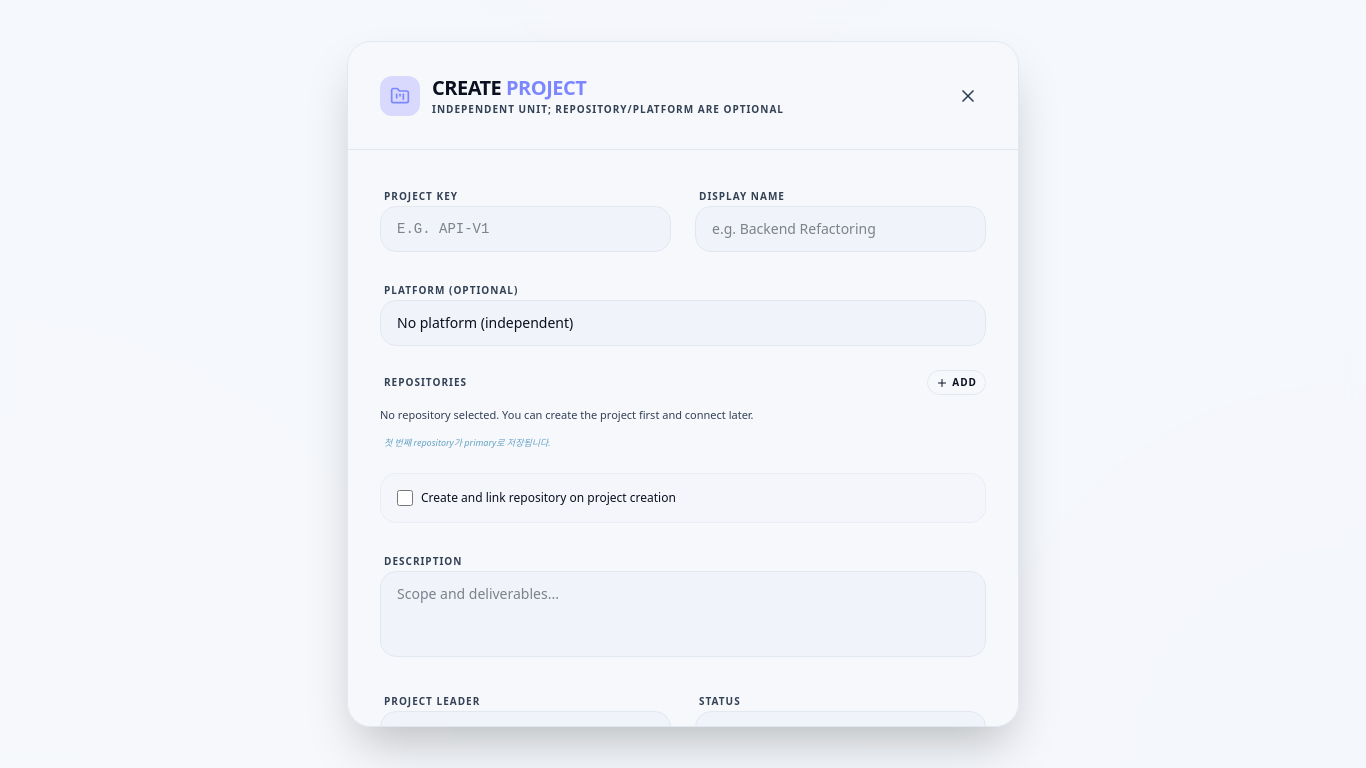
Test: ProjectCreationModal › disables submit button when createRepository payload is incomplete
Click the checkbox labelled "Create and link repository on project creation": (405, 498) [397,490,413,506]
(page scrolled)
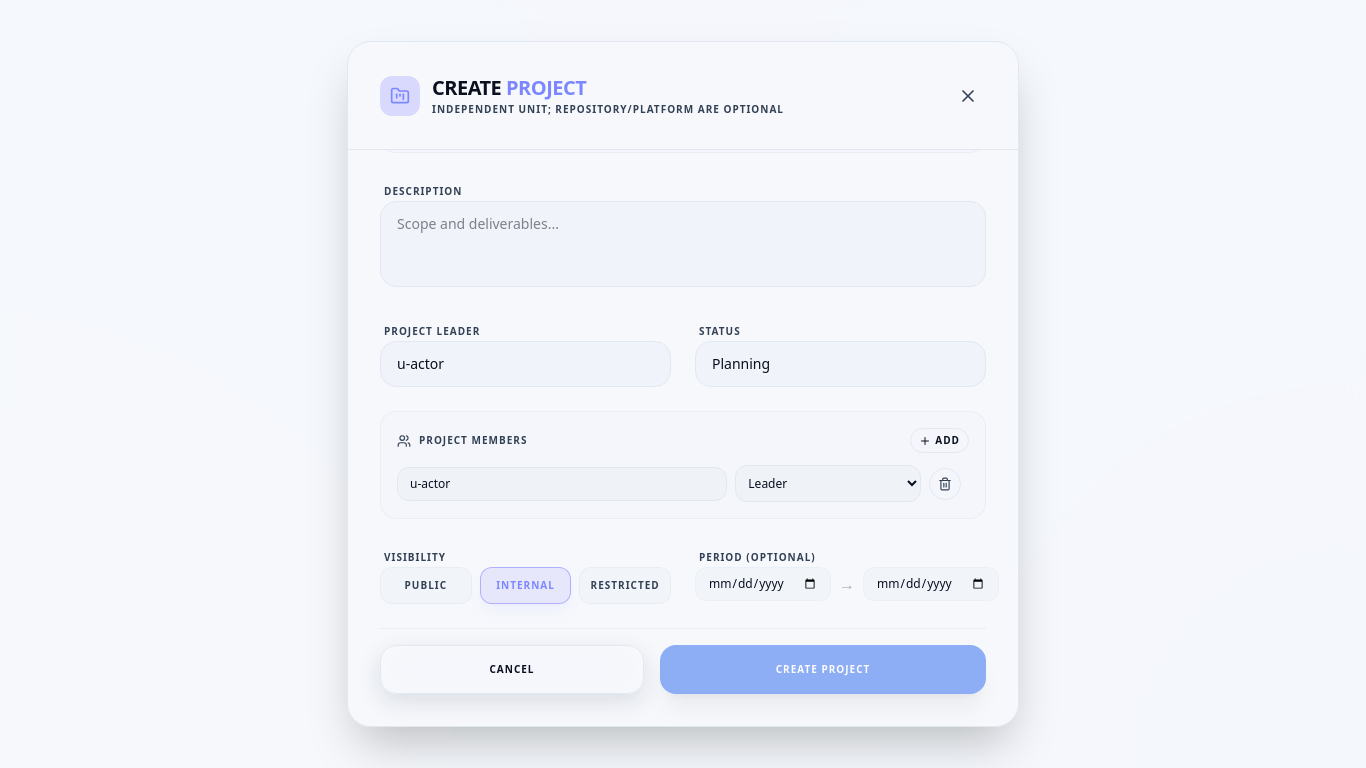
Now the button "Create Project" is disabled, box [660,645,986,694]
